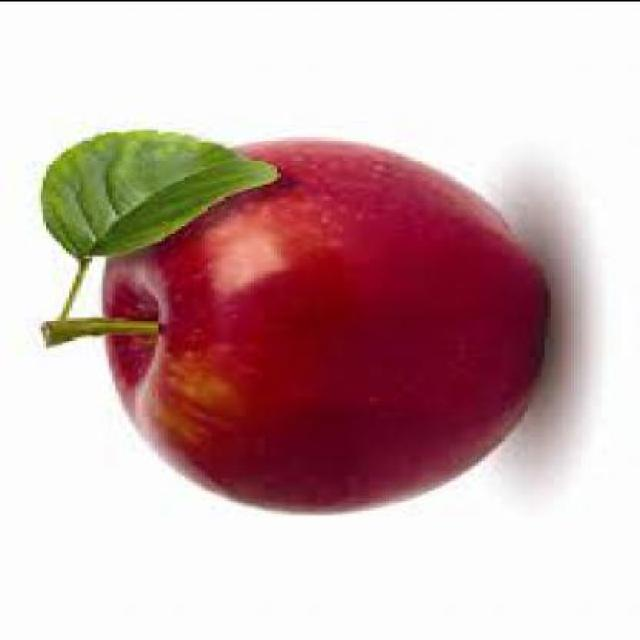BIODEGRADABLE: (104, 141, 546, 511), (40, 130, 276, 346)
